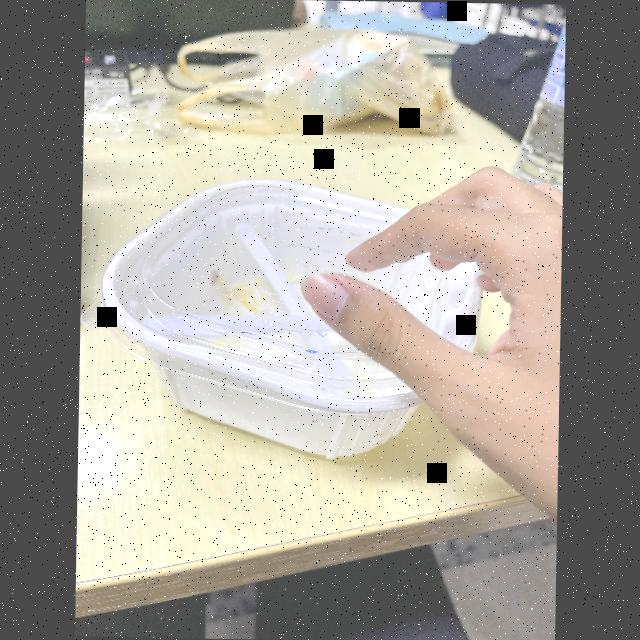plastic_box: (83, 163, 500, 474)
